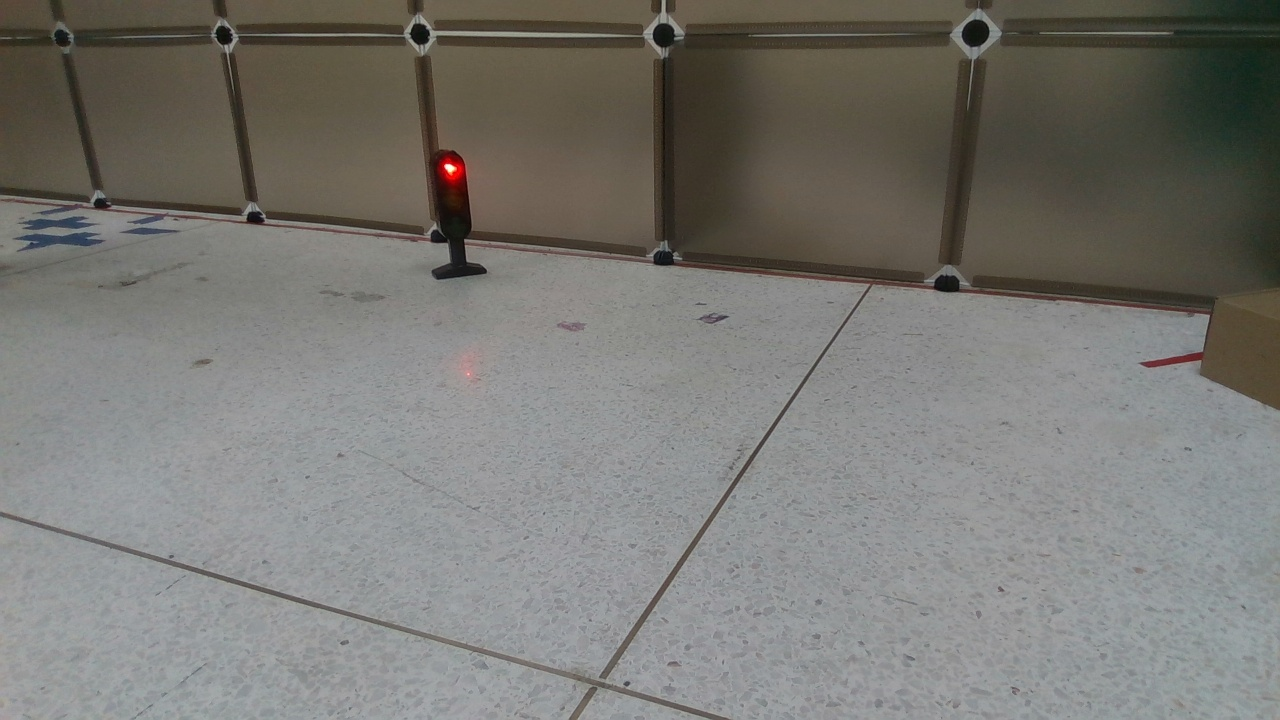Red traffic light: (428, 147, 492, 281)
